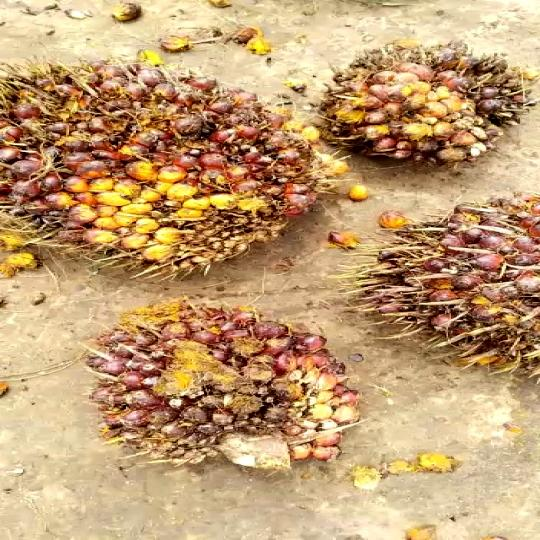masak: (0, 46, 339, 309), (73, 293, 385, 475), (335, 33, 540, 172)
